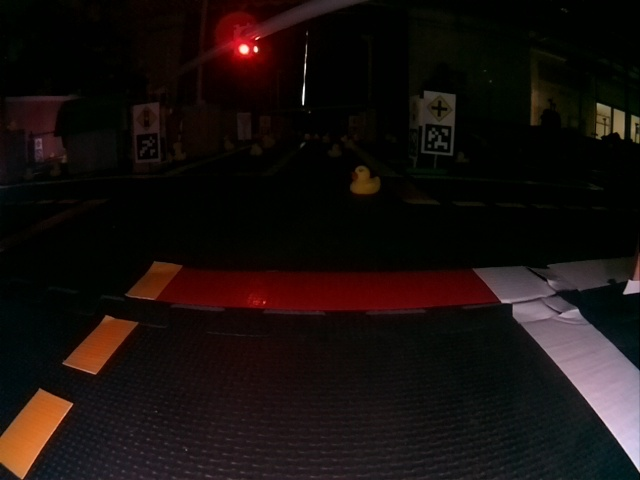Duckie: (350, 166, 381, 195), (328, 145, 342, 157), (250, 144, 262, 155), (50, 165, 60, 176), (24, 169, 34, 179)
Intersection sign: (424, 94, 455, 122)
QR code: (424, 124, 453, 153), (135, 132, 161, 161), (408, 127, 418, 158)
Signal sign: (133, 106, 159, 129), (409, 98, 419, 123)
Traffic light: (229, 25, 262, 59)
